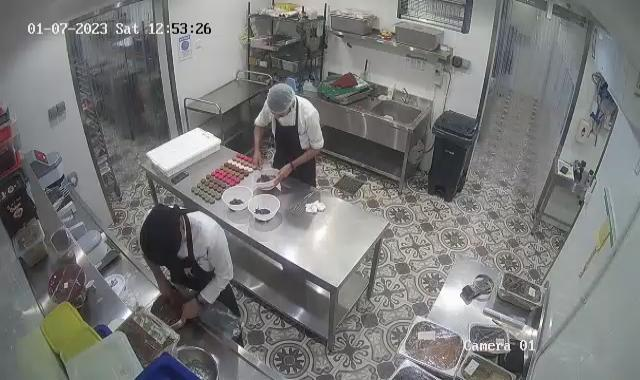hairnet: (264, 83, 296, 118)
no_hairnet: (140, 201, 187, 267)
